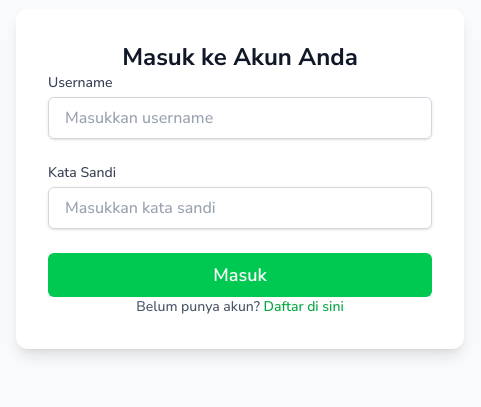
Login Component › Tombol berubah jadi 'Memeriksa…' saat loading
This screenshot has width=481, height=407.
Type "ruth" into the field labelled "Username".
click(240, 118); type("ruth")  # box [48,97,432,139]
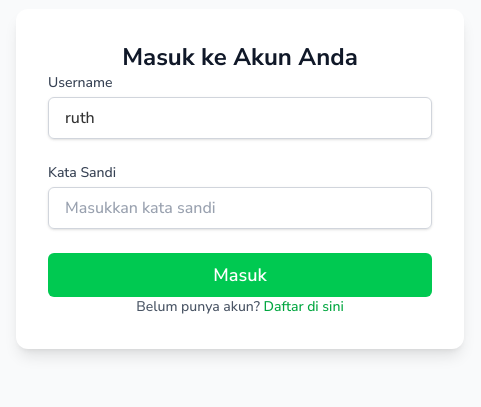
Type "123" into the password field labelled "Kata Sandi".
click(240, 208); type("123")  # box [48,187,432,229]
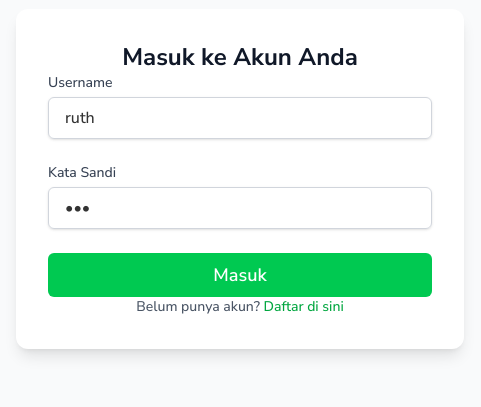
Click the button "Masuk".
click(240, 275)  # box [48,253,432,297]
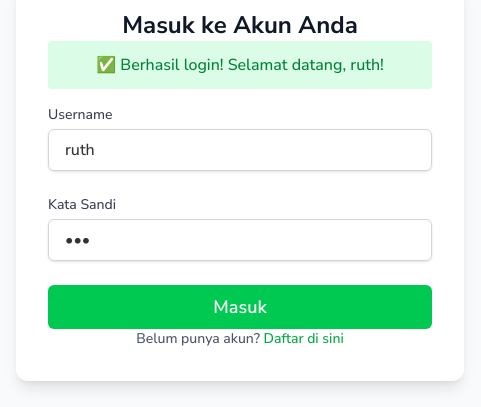
Check: the button named "memeriksa" is shown, box [48,285,432,329]
Check: the text "✅ Berhasil login! Selamat datang, ruth!" is shown, box [48,41,432,89]
